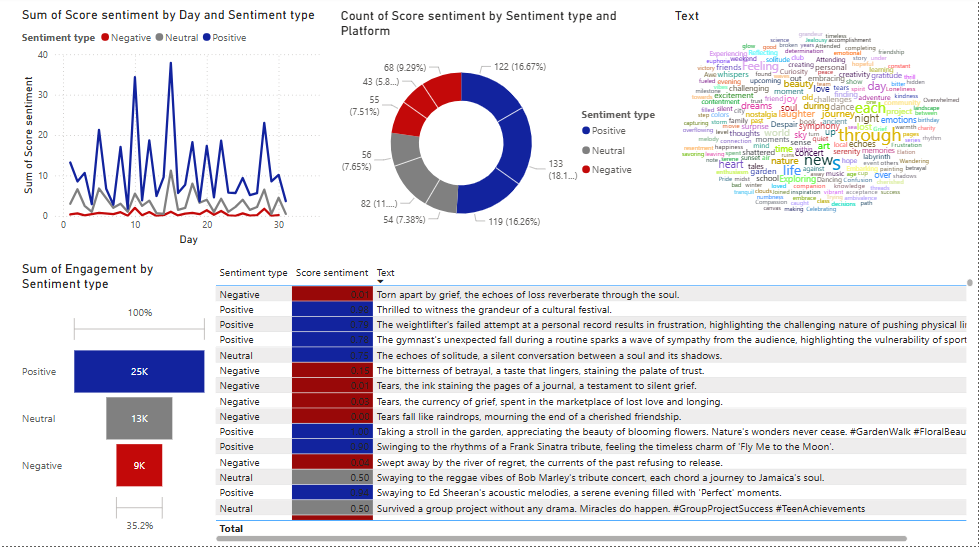

What the dashboard file says about the page in this screenshot:
{"tool":"powerbi","page":{"name":"Sentiment_Review","canvas":[1280,720],"ordinal":0},"visuals":[{"type":"lineChart","fields":{"Y":["Sheet1.Score sentiment"],"Category":["Sheet1.Date.Variation.Date Hierarchy.Day"],"Series":["Sheet1.Sentiment type"]},"box":[23.6,14.4,403.2,316.8],"z":0},{"type":"WordCloud1447959067750","fields":{"Category":["Sheet1.Text"]},"box":[878.5,15.1,401.5,315.8],"z":1000},{"type":"donutChart","fields":{"Category":["Sheet1.Sentiment type"],"Y":["Sheet1.Score sentiment"],"Series":["Sheet1.Platform"]},"box":[441.2,15.7,437.2,315.5],"z":2000},{"type":"tableEx","fields":{"Values":["Sheet1.Sentiment type","Sheet1.Score sentiment","Sheet1.Text"]},"box":[276.6,346.8,1003.4,373],"z":3000},{"type":"funnel","fields":{"Y":["Sheet1.Engagement"],"Category":["Sheet1.Sentiment type"]},"box":[23,347,254,373],"z":4000}]}

Visuals, with their boxes in screenshot pixels (x1, y1, x2, y2), scaled from the page's 1280x720 canvas onto the 979x547 screenshot:
lineChart - Sheet1.Score sentiment x Sheet1.Date.Variation.Date Hierarchy.Day: bbox=(18, 11, 326, 252)
WordCloud1447959067750 - Sheet1.Text: bbox=(672, 11, 978, 251)
donutChart - Sheet1.Sentiment type x Sheet1.Score sentiment: bbox=(337, 12, 672, 252)
tableEx - Sheet1.Sentiment type x Sheet1.Score sentiment: bbox=(212, 263, 978, 546)
funnel - Sheet1.Engagement x Sheet1.Sentiment type: bbox=(18, 264, 212, 546)
